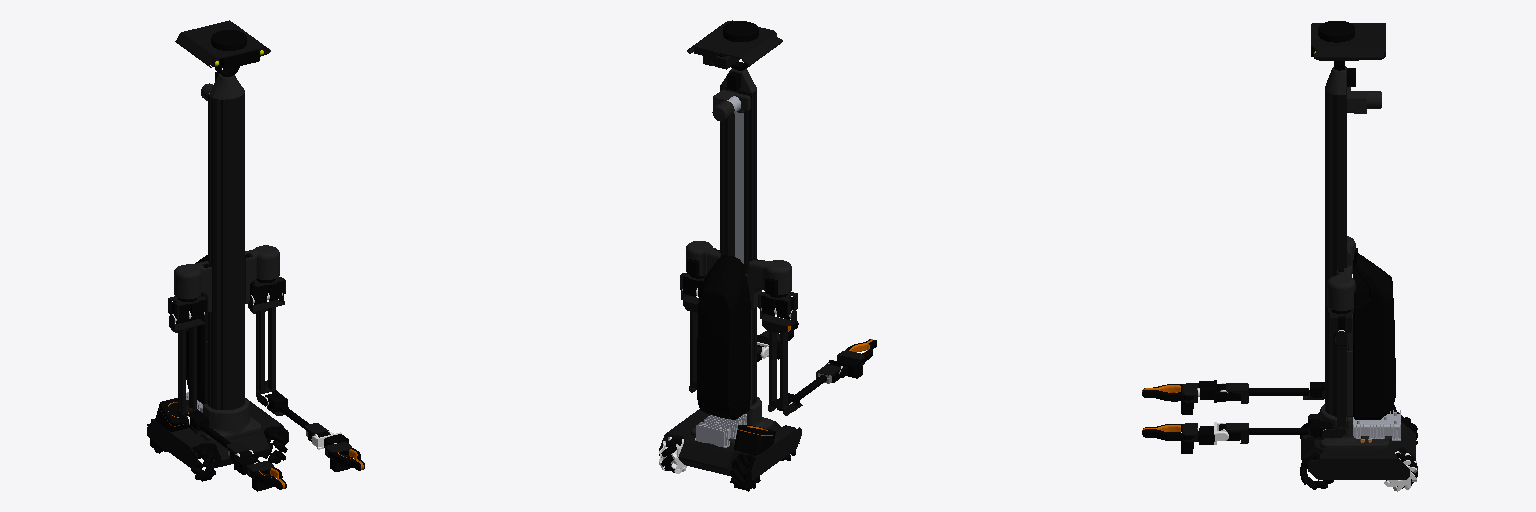
--- What the picture shows (computed from the rendered views, not written in the file) ---
Views: 3 orthographic renders of the robot side by side, from view 1: azimuth 30°, elevation 25°; view 2: azimuth 150°, elevation 25°; view 3: azimuth 270°, elevation 25°.
Robot: alfiebot.021.urdf — 23 links, 22 joints (16 revolute, 5 continuous, 1 prismatic); root link base_link; default pose: all joints at 0.
Visible links, largest first — view 1: base_link, head_link, back_link, left_arm_upper_link, right_arm_upper_link, left_arm_lower_link, right_arm_lower_link, right_shoulder_link, left_shoulder_link, mecanum_fr_link, mecanum_fl_link; view 2: base_link, head_link, back_link, right_arm_upper_link, right_shoulder_link, left_arm_upper_link, right_arm_lower_link, mecanum_rr_link, mecanum_rl_link; view 3: base_link, head_link, back_link, left_arm_lower_link, right_arm_lower_link, left_arm_upper_link, mecanum_rl_link.
Boxes of the visible links, x1,y1,x2,y2 form: base_link: [147, 72, 288, 468]; head_link: [175, 20, 270, 69]; back_link: [174, 245, 279, 312]; left_arm_upper_link: [248, 293, 284, 406]; right_arm_upper_link: [169, 313, 206, 425]; left_arm_lower_link: [265, 392, 331, 441]; right_arm_lower_link: [187, 411, 253, 461]; right_shoulder_link: [168, 296, 206, 323]; left_shoulder_link: [250, 277, 285, 304]; mecanum_fr_link: [191, 446, 215, 481]; mecanum_fl_link: [263, 428, 287, 463]; base_link: [659, 68, 801, 479]; head_link: [687, 20, 782, 67]; back_link: [686, 241, 791, 309]; right_arm_upper_link: [760, 308, 796, 415]; right_shoulder_link: [758, 292, 797, 319]; left_arm_upper_link: [681, 289, 698, 392]; right_arm_lower_link: [777, 363, 842, 411]; mecanum_rr_link: [730, 453, 760, 491]; mecanum_rl_link: [659, 437, 686, 473]; base_link: [1301, 66, 1415, 479]; head_link: [1311, 21, 1385, 60]; back_link: [1327, 236, 1357, 310]; left_arm_lower_link: [1219, 421, 1331, 443]; right_arm_lower_link: [1219, 382, 1324, 403]; left_arm_upper_link: [1322, 331, 1348, 437]; mecanum_rl_link: [1384, 451, 1417, 491].
Size in the robot's own frame: 0.275 by 0.5779 by 1.02 metres.
Meshes: 52 distinct files referenced, 146 mesh visuals loaded (49 OBJ); not drawn: 4 (reference not matched to a file when rendering).

The robot description file, URDF, robot "alfiebot.021.urdf":
<?xml version="1.0" encoding="UTF-8"?>
<robot name="alfiebot.021.urdf">

  <material name="aluminum_black">
    <color rgba="0.1 0.1 0.1 1"/>
  </material>

  <material name="body_black">
    <color rgba="0.15 0.15 0.15 1"/>
  </material>

  <material name="plastic_black">
    <color rgba="0.05 0.05 0.05 1"/>
  </material>

  <material name="glass_black">
    <color rgba="0.05 0.05 0.05 1"/>
  </material>

  <material name="brass">
    <color rgba="0.8 0.5 0.2 1"/>
  </material>

  <material name="plastic_white">
    <color rgba="0.9 0.9 0.9 1"/>
  </material>

  <material name="aluminum">
    <color rgba="0.66 0.67 0.71 1"/>
  </material>



  <material name="rubber_black">
    <color rgba="0.05 0.05 0.05 1"/>
  </material>

  <material name="glass_yellow">
    <color rgba="0.8 0.8 0.0 1"/>
  </material>

  <material name="rubber_orange">
    <color rgba="0.8 0.4 0.0 1"/>
  </material>

  <material name="plastic_orange">
    <color rgba="0.8 0.4 0.0 1"/>
  </material>

  <material name="plastic_grey">
    <color rgba="0.5 0.5 0.5 1"/>
  </material>

  <joint name="back_joint" type="prismatic">
    <origin xyz="-0.001102 0.0016674 0.3291568" rpy="0. 0. 3.1415927"/>
    <parent link="base_link"/>
    <child link="back_link"/>
    <axis xyz="0. 0. 1."/>
    <limit lower="0." upper="0.39" effort="10000000." velocity="0."/>
  </joint>
  <joint name="head_pitch_joint" type="revolute">
    <origin xyz="-0.01875 -0. 0.053 " rpy="1.5707964 0.0 1.5707964"/>
    <parent link="neck2_link"/>
    <child link="neck3_link"/>
    <axis xyz="0. 0. -1."/>
    <limit lower="-1.0471976" upper="1.0471976" effort="10000000." velocity="0."/>
  </joint>
  <joint name="head_roll_joint" type="continuous">
    <origin xyz="0.0506271 0.0001069 0.0194332" rpy="-1.5707964 0. 1.5707964"/>
    <parent link="neck3_link"/>
    <child link="head_link"/>
    <axis xyz="0. 0. 1."/>
  </joint>
  <joint name="head_yaw_joint" type="revolute">
    <origin xyz="-0.0011403 0.0054173 0.8706568" rpy="0.0 0.0 0.0"/>
    <parent link="base_link"/>
    <child link="neck2_link"/>
    <axis xyz="0. 0. 1."/>
    <limit lower="-3.1415927" upper="3.1415927" effort="10000000." velocity="0."/>
  </joint>
  <joint name="left_elbow_pitch_joint" type="revolute">
    <origin xyz="0.2368151 -0.0300024 0.0193 " rpy="0. 0. 1.5707964"/>
    <parent link="left_arm_upper_link"/>
    <child link="left_arm_lower_link"/>
    <axis xyz="0. 0. 1."/>
    <limit lower="-1.5707963" upper="1.5707963" effort="10000000." velocity="0."/>
  </joint>
  <joint name="left_gripper_active_joint" type="revolute">
    <origin xyz="-0.0052 -0.015625 0.021 " rpy="-1.5707964 0. -1.5707964"/>
    <parent link="left_hand_link"/>
    <child link="left_gripper_active_link"/>
    <axis xyz="0. 0. 1."/>
    <limit lower="-0.0872665" upper="0.7853982" effort="10000000." velocity="0."/>
  </joint>
  <joint name="left_gripper_passive_joint" type="revolute">
    <origin xyz="-0.0052 0.015625 0.021 " rpy="-1.5707964 0. -1.5707964"/>
    <parent link="left_hand_link"/>
    <child link="left_gripper_passive_link"/>
    <axis xyz="0. 0. 1."/>
    <limit lower="-0.7853982" upper="0.0872665" effort="10000000." velocity="0."/>
  </joint>
  <joint name="left_shoulder_pitch_joint" type="revolute">
    <origin xyz="0.0379175 0.0000265 -0.0508856" rpy="0. 1.5707961 -3.1415927"/>
    <parent link="left_shoulder_link"/>
    <child link="left_arm_upper_link"/>
    <axis xyz="0. 0. 1."/>
    <limit lower="-1.4835299" upper="1.4835299" effort="10000000." velocity="0."/>
  </joint>
  <joint name="left_shoulder_yaw_joint" type="revolute">
    <origin xyz="-0.098 -0.007 0.04 " rpy="0. 0. 0."/>
    <parent link="back_link"/>
    <child link="left_shoulder_link"/>
    <axis xyz="0. 0. 1."/>
    <limit lower="-0.7853982" upper="0.7853982" effort="10000000." velocity="0."/>
  </joint>
  <joint name="left_wrist_pitch_joint" type="revolute">
    <origin xyz="-0.2158563 -0.005356 0.0004384" rpy="0. -0.0000002 -1.5707964"/>
    <parent link="left_arm_lower_link"/>
    <child link="left_wrist_link"/>
    <axis xyz="0. 0. 1."/>
    <limit lower="-0.7853982" upper="1.5707963" effort="10000000." velocity="0."/>
  </joint>
  <joint name="left_wrist_roll_joint" type="revolute">
    <origin xyz="-0. -0.05525 0.019 " rpy="-1.5707964 -0.0000002 -3.1415927"/>
    <parent link="left_wrist_link"/>
    <child link="left_hand_link"/>
    <axis xyz="0. 0. 1."/>
    <limit lower="-1.5707963" upper="1.5707963" effort="10000000." velocity="0."/>
  </joint>
  <joint name="mecanum_fl_joint" type="continuous">
    <origin xyz="0.0587987 -0.0400623 -0.0190932" rpy="1.5707964 0. 1.5707964"/>
    <parent link="base_link"/>
    <child link="mecanum_fl_link"/>
    <axis xyz="0. 0. 1."/>
  </joint>
  <joint name="mecanum_fr_joint" type="continuous">
    <origin xyz="-0.0614028 -0.0400623 -0.0190932" rpy="1.5707964 0. 1.5707964"/>
    <parent link="base_link"/>
    <child link="mecanum_fr_link"/>
    <axis xyz="0. 0. 1."/>
  </joint>
  <joint name="mecanum_rl_joint" type="continuous">
    <origin xyz="0.0587987 0.1309377 -0.0190932" rpy="1.5707964 0. 1.5707964"/>
    <parent link="base_link"/>
    <child link="mecanum_rl_link"/>
    <axis xyz="0. 0. 1."/>
  </joint>
  <joint name="mecanum_rr_joint" type="continuous">
    <origin xyz="-0.0614028 0.1309377 -0.0190932" rpy="1.5707964 0. 1.5707964"/>
    <parent link="base_link"/>
    <child link="mecanum_rr_link"/>
    <axis xyz="0. 0. 1."/>
  </joint>
  <joint name="right_elbow_pitch_joint" type="revolute">
    <origin xyz="0.2368151 -0.0300024 0.0193 " rpy="0.0000001 -0.0000001 1.5707963"/>
    <parent link="right_arm_upper_link"/>
    <child link="right_arm_lower_link"/>
    <axis xyz="0. 0. 1."/>
    <limit lower="-1.5707963" upper="1.5707963" effort="10000000." velocity="0."/>
  </joint>
  <joint name="right_gripper_active_joint" type="revolute">
    <origin xyz="0.0052 0.015625 0.021 " rpy="-1.5707964 0. 1.5707964"/>
    <parent link="right_hand_link"/>
    <child link="right_gripper_active_link"/>
    <axis xyz="0. 0. 1."/>
    <limit lower="-0.0872665" upper="0.7853982" effort="10000000." velocity="0."/>
  </joint>
  <joint name="right_gripper_passive_joint" type="revolute">
    <origin xyz="0.0052 -0.015625 0.021 " rpy="-1.5707964 0. 1.5707964"/>
    <parent link="right_hand_link"/>
    <child link="right_gripper_passive_link"/>
    <axis xyz="0. 0. 1."/>
    <limit lower="-0.7853982" upper="0.0872665" effort="10000000." velocity="0."/>
  </joint>
  <joint name="right_shoulder_pitch_joint" type="revolute">
    <origin xyz="0.0379175 0.0000265 -0.0508856" rpy="0. 1.5707961 3.1415927"/>
    <parent link="right_shoulder_link"/>
    <child link="right_arm_upper_link"/>
    <axis xyz="0. 0. 1."/>
    <limit lower="-1.4835299" upper="1.4835299" effort="10000000." velocity="0."/>
  </joint>
  <joint name="right_shoulder_yaw_joint" type="revolute">
    <origin xyz="0.098 -0.007 0.04 " rpy="0. 0. 0."/>
    <parent link="back_link"/>
    <child link="right_shoulder_link"/>
    <axis xyz="0. 0. 1."/>
    <limit lower="-0.7853982" upper="0.7853982" effort="10000000." velocity="0."/>
  </joint>
  <joint name="right_wrist_pitch_joint" type="revolute">
    <origin xyz="-0.2158563 -0.005356 0.0004384" rpy="-0.0000001 -0.0000001 -1.5707963"/>
    <parent link="right_arm_lower_link"/>
    <child link="right_wrist_link"/>
    <axis xyz="0. 0. 1."/>
    <limit lower="-0.7853982" upper="1.5707963" effort="10000000." velocity="0."/>
  </joint>
  <joint name="right_wrist_roll_joint" type="revolute">
    <origin xyz="-0. -0.05525 0.0185 " rpy="1.5707964 0.0000002 -0. "/>
    <parent link="right_wrist_link"/>
    <child link="right_hand_link"/>
    <axis xyz="0. 0. 1."/>
    <limit lower="-1.5707963" upper="1.5707963" effort="10000000." velocity="0."/>
  </joint>


  <link name="back_link">
    <inertial>
      <origin xyz="-0.051 -0.0073 0.053 " rpy="0. 0. 0."/>
      <mass value="0.0114743"/>
      <inertia ixx="0.0000005" ixy="-0." ixz="0." iyy="0.0000005" iyz="-0." izz="0.0000008"/>
    </inertial>
    <visual>
      <origin xyz="-0.098 -0.007 0.05725" rpy="0. 0. 1.5707964"/>
      <geometry>
        <mesh filename="package://alfie_urdf/meshes/st3215.obj" scale="1. 1. 1."/>
      </geometry>
      <material name="plastic_black"/>
    </visual>
    <visual>
      <origin xyz="-0. -0.0064 0.04 " rpy="3.1415927 0. 0. "/>
      <geometry>
        <mesh filename="package://alfie_urdf/meshes/v_bearing.obj" scale="1. 1. 1."/>
      </geometry>
      <material name="plastic_black"/>
    </visual>
    <visual>
      <origin xyz="-0. -0.007 0.1 " rpy="0. 0. 0."/>
      <geometry>
        <mesh filename="package://alfie_urdf/meshes/pillow_block_adapter.obj" scale="1. 1. 1."/>
      </geometry>
      <material name="body_black"/>
    </visual>
    <visual>
      <origin xyz="-0. -0.007 0.1 " rpy="0. 0. 0."/>
      <geometry>
        <mesh filename="package://alfie_urdf/meshes/left_shoulder.obj" scale="1. 1. 1."/>
      </geometry>
      <material name="body_black"/>
    </visual>
    <visual>
      <origin xyz="-0. -0.007 0.1 " rpy="0. 0. 0."/>
      <geometry>
        <mesh filename="package://alfie_urdf/meshes/back_frame.obj" scale="1. 1. 1."/>
      </geometry>
      <material name="body_black"/>
    </visual>
    <visual>
      <origin xyz="0.0009153 -0.0064 0.0736835" rpy="3.1415927 0. 0. "/>
      <geometry>
        <mesh filename="package://alfie_urdf/meshes/v_bearing.obj" scale="1. 1. 1."/>
      </geometry>
      <material name="plastic_black"/>
    </visual>
    <visual>
      <origin xyz="-0.1029153 -0.0064 0.0736835" rpy="3.1415927 0. 0. "/>
      <geometry>
        <mesh filename="package://alfie_urdf/meshes/v_bearing.obj" scale="1. 1. 1."/>
      </geometry>
      <material name="plastic_black"/>
    </visual>
    <visual>
      <origin xyz="0.098 -0.007 0.05725" rpy="0. 0. 1.5707964"/>
      <geometry>
        <mesh filename="package://alfie_urdf/meshes/st3215.obj" scale="1. 1. 1."/>
      </geometry>
      <material name="plastic_black"/>
    </visual>
    <visual>
      <origin xyz="-0. -0.007 0.1 " rpy="0. 0. 0."/>
      <geometry>
        <mesh filename="package://alfie_urdf/meshes/right_shoulder.obj" scale="1. 1. 1."/>
      </geometry>
      <material name="body_black"/>
    </visual>
    <visual>
      <origin xyz="-0.102 -0.0064 0.04 " rpy="3.1415927 0. 0. "/>
      <geometry>
        <mesh filename="package://alfie_urdf/meshes/v_bearing.obj" scale="1. 1. 1."/>
      </geometry>
      <material name="plastic_black"/>
    </visual>
  </link>

  <link name="base_link">
    <inertial>
      <origin xyz="-0.0846182 0.0894767 0.0393554" rpy="0. 0. 0."/>
      <mass value="0.17555"/>
      <inertia ixx="0.000074" ixy="0." ixz="0." iyy="0.0001197" iyz="0.0000151" izz="0.0000903"/>
    </inertial>
    <visual>
      <origin xyz="-0.001302 0.0336644 0.2746568" rpy="0. 0. 3.1415927"/>
      <geometry>
        <mesh filename="package://alfie_urdf/meshes/optical_endstop_block.obj" scale="1. 1. 1."/>
      </geometry>
      <material name="body_black"/>
    </visual>
    <visual>
      <origin xyz="-0.001302 0.0331644 0.0276568" rpy="0. 0. 1.5707964"/>
      <geometry>
        <mesh filename="package://alfie_urdf/meshes/buck_converter.obj" scale="1. 1. 1."/>
      </geometry>
      <material name="aluminum"/>
    </visual>
    <visual>
      <origin xyz="-0.0011033 0.0196107 0.8266568" rpy="0. 0. -0.0025961"/>
      <geometry>
        <mesh filename="package://alfie_urdf/meshes/neck_base.obj" scale="1. 1. 1."/>
      </geometry>
      <material name="body_black"/>
    </visual>
    <visual>
      <origin xyz="-0.001302 0.0196644 0.0449068" rpy="0. 0. 3.1415927"/>
      <geometry>
        <mesh filename="package://alfie_urdf/meshes/battery_adapter_plate.obj" scale="1. 1. 1."/>
      </geometry>
      <material name="body_black"/>
    </visual>
    <visual>
      <origin xyz="-0.001135 0.0916674 0.7974541" rpy="3.1415927 0. 0. "/>
      <geometry>
        <mesh filename="package://alfie_urdf/meshes/back_servo_cover.obj" scale="1. 1. 1."/>
      </geometry>
      <material name="body_black"/>
    </visual>
    <visual>
      <origin xyz="0.0542753 0.0684031 0.0314471" rpy="0. 0. 0."/>
      <geometry>
        <mesh filename="package://alfie_urdf/meshes/wifi_antenna.obj" scale="1. 1. 1."/>
      </geometry>
      <material name="plastic_black"/>
    </visual>
    <visual>
      <origin xyz="-0.001102 0.0196644 0.0271568" rpy="0. 0. 3.1415927"/>
      <geometry>
        <mesh filename="package://alfie_urdf/meshes/flsun_arm.obj" scale="1. 1. 1."/>
      </geometry>
      <material name="aluminum_black"/>
    </visual>
    <visual>
      <origin xyz="-0.001135 0.0296674 0.7974541" rpy="1.5707964 0. 0. "/>
      <geometry>
        <mesh filename="package://alfie_urdf/meshes/jgb37_520.obj" scale="1. 1. 1."/>
      </geometry>
      <material name="aluminum"/>
    </visual>
    <visual>
      <origin xyz="0.0542753 0.0684031 0.0314471" rpy="0. 0. 0."/>
      <geometry>
        <mesh filename="package://alfie_urdf/meshes/wifi_nut.obj" scale="1. 1. 1."/>
      </geometry>
      <material name="brass"/>
    </visual>
    <visual>
      <origin xyz="-0.001302 0.0463674 0.0241568" rpy="0. 0. 0."/>
      <geometry>
        <mesh filename="package://alfie_urdf/meshes/base_plate.obj" scale="1. 1. 1."/>
      </geometry>
      <material name="body_black"/>
    </visual>
    <visual>
      <origin xyz="-0.0011403 0.0054173 0.8514068" rpy="-3.1415927 0. -1.5733924"/>
      <geometry>
        <mesh filename="package://alfie_urdf/meshes/st3215.obj" scale="1. 1. 1."/>
      </geometry>
      <material name="plastic_black"/>
    </visual>
    <visual>
      <origin xyz="-0.0846183 0.0741196 0.0619034" rpy="-1.1724066 0. 0. "/>
      <geometry>
        <mesh filename="package://alfie_urdf/meshes/speaker_accent.obj" scale="1. 1. 1."/>
      </geometry>
      <material name="plastic_orange"/>
    </visual>
    <visual>
      <origin xyz="0.0542854 0.0531264 0.0314244" rpy="0. 0. 0."/>
      <geometry>
        <mesh filename="package://alfie_urdf/meshes/wifi_antenna.obj" scale="1. 1. 1."/>
      </geometry>
      <material name="plastic_black"/>
    </visual>
    <visual>
      <origin xyz="-0.001302 0.0454377 0.0241568" rpy="0. 0. 0."/>
      <geometry>
        <mesh filename="package://alfie_urdf/meshes/ugv_base.obj" scale="1. 1. 1."/>
      </geometry>
      <material name="aluminum_black"/>
    </visual>
    <visual>
      <origin xyz="-0.0846183 0.0741196 0.0619034" rpy="-1.1724066 0. 0. "/>
      <geometry>
        <mesh filename="package://alfie_urdf/meshes/speaker.obj" scale="1. 1. 1."/>
      </geometry>
      <material name="plastic_black"/>
    </visual>
    <visual>
      <origin xyz="-0.001102 0.0196644 0.0271568" rpy="0. 0. 3.1415927"/>
      <geometry>
        <mesh filename="package://alfie_urdf/meshes/flsun_rail.obj" scale="1. 1. 1."/>
      </geometry>
      <material name="aluminum"/>
    </visual>
    <visual>
      <origin xyz="-0.001302 0.0832644 0.0241568" rpy="0. 0. 1.5707964"/>
      <geometry>
        <mesh filename="package://alfie_urdf/meshes/buckdown_spacer.obj" scale="1. 1. 1."/>
      </geometry>
      <material name="body_black"/>
    </visual>
    <visual>
      <origin xyz="0.0542854 0.0531264 0.0314244" rpy="0. 0. 0."/>
      <geometry>
        <mesh filename="package://alfie_urdf/meshes/wifi_nut.obj" scale="1. 1. 1."/>
      </geometry>
      <material name="brass"/>
    </visual>
    <visual>
      <origin xyz="-0.001135 0.0196674 0.7974541" rpy="3.1415927 0. 0. "/>
      <geometry>
        <mesh filename="package://alfie_urdf/meshes/back_servo_frame.obj" scale="1. 1. 1."/>
      </geometry>
      <material name="body_black"/>
    </visual>
    <visual>
      <origin xyz="-0.0010395 0.0334644 0.074102 " rpy="0. -1.5707964 0. "/>
      <geometry>
        <mesh filename="package://alfie_urdf/meshes/6010_battery.obj" scale="1. 1. 1."/>
      </geometry>
      <material name="plastic_black"/>
    </visual>
    <visual>
      <origin xyz="-0.0846183 0.0741196 0.0619034" rpy="-1.1724066 0. 0. "/>
      <geometry>
        <mesh filename="package://alfie_urdf/meshes/speaker_cover.obj" scale="1. 1. 1."/>
      </geometry>
      <material name="plastic_black"/>
    </visual>
    <visual>
      <origin xyz="-0.0846183 0.0741196 0.0619034" rpy="-1.1724066 0. 0. "/>
      <geometry>
        <mesh filename="package://alfie_urdf/meshes/speaker_base.obj" scale="1. 1. 1."/>
      </geometry>
      <material name="plastic_black"/>
    </visual>
  </link>

  <link name="head_link">
    <inertial>
      <origin xyz="-0. -0. -0.0354969" rpy="0. 0. 0."/>
      <mass value="0.001042"/>
      <inertia ixx="0." ixy="-0." ixz="-0." iyy="0." iyz="-0." izz="0."/>
    </inertial>
    <visual>
      <origin xyz="-0. -0. -0.01725" rpy="3.1415927 -0. 1.5707964"/>
      <geometry>
        <mesh filename="package://alfie_urdf/meshes/st3215.obj" scale="1. 1. 1."/>
      </geometry>
      <material name="plastic_black"/>
    </visual>
    <visual>
      <origin xyz="0.0071363 0.0002454 0.0970189" rpy="-1.5707964 0. -1.5707964"/>
      <geometry>
        <mesh filename="package://alfie_urdf/meshes/oakd_lite.obj" scale="1. 1. 1."/>
      </geometry>
      <material name="plastic_black"/>
    </visual>
    <visual>
      <origin xyz="-0. -0. -0.01725" rpy="-3.1415927 0. -1.5707964"/>
      <geometry>
        <mesh filename="package://alfie_urdf/meshes/active_horn.obj" scale="1. 1. 1."/>
      </geometry>
      <material name="plastic_white"/>
    </visual>
    <visual>
      <origin xyz="-0.0967828 0.0002681 0.0396251" rpy="-1.5707964 0. -1.5707964"/>
      <geometry>
        <mesh filename="package://alfie_urdf/meshes/respeaker.obj" scale="1. 1. 1."/>
      </geometry>
      <material name="plastic_black"/>
    </visual>
    <visual>
      <origin xyz="-0.0944828 0.1128894 0.036915 " rpy="-1.5707964 0. -1.5707964"/>
      <geometry>
        <mesh filename="package://alfie_urdf/meshes/eye_glass.obj" scale="1. 1. 1."/>
      </geometry>
      <material name="glass_yellow"/>
    </visual>
    <visual>
      <origin xyz="-0.0944828 0.0008894 0.036915 " rpy="-1.5707964 0. -1.5707964"/>
      <geometry>
        <mesh filename="package://alfie_urdf/meshes/eye_glass.obj" scale="1. 1. 1."/>
      </geometry>
      <material name="glass_yellow"/>
    </visual>
    <visual>
      <origin xyz="0.00775 0.0002454 0.0365189" rpy="-1.5707964 0. -1.5707964"/>
      <geometry>
        <mesh filename="package://alfie_urdf/meshes/head_frame.obj" scale="1. 1. 1."/>
      </geometry>
      <material name="aluminum_black"/>
    </visual>
    <visual>
      <origin xyz="-0.0944828 0.1128894 0.036915 " rpy="-1.5707964 0. -1.5707964"/>
      <geometry>
        <mesh filename="package://alfie_urdf/meshes/eye_frame.obj" scale="1. 1. 1."/>
      </geometry>
      <material name="aluminum_black"/>
    </visual>
    <visual>
      <origin xyz="-0. -0. -0.0357" rpy="-1.5707964 0. -1.5707964"/>
      <geometry>
        <mesh filename="package://alfie_urdf/meshes/neck4_frame.obj" scale="1. 1. 1."/>
      </geometry>
      <material name="aluminum_black"/>
    </visual>
    <visual>
      <origin xyz="-0.0944828 0.0008894 0.036915 " rpy="-1.5707964 0. -1.5707964"/>
      <geometry>
        <mesh filename="package://alfie_urdf/meshes/eye_frame.obj" scale="1. 1. 1."/>
      </geometry>
      <material name="aluminum_black"/>
    </visual>
    <visual>
      <origin xyz="-0. -0. -0.01725" rpy="-3.1415927 0. -1.5707964"/>
      <geometry>
        <mesh filename="package://alfie_urdf/meshes/passive_horn.obj" scale="1. 1. 1."/>
      </geometry>
      <material name="plastic_white"/>
    </visual>
  </link>

  <link name="left_arm_lower_link">
    <inertial>
      <origin xyz="-0.0133899 0. 0.0192034" rpy="0. 0. 0."/>
      <mass value="0.0951702"/>
      <inertia ixx="0.0000129" ixy="0." ixz="-0." iyy="0.0000204" iyz="-0." izz="0.0000236"/>
    </inertial>
    <visual>
      <origin xyz="0.0672499 0.5326688 -0.0786977" rpy="1.5707964 1.5707964 0. "/>
      <geometry>
        <mesh filename="package://alfie_urdf/meshes/tube.obj" scale="1. 1. 1."/>
      </geometry>
      <material name="plastic_black"/>
    </visual>
    <visual>
      <origin xyz="-0.2158563 -0.0012424 0.017225 " rpy="0. 0. 1.5707964"/>
      <geometry>
        <mesh filename="package://alfie_urdf/meshes/passive_horn.obj" scale="1. 1. 1."/>
      </geometry>
      <material name="plastic_white"/>
    </visual>
    <visual>
      <origin xyz="0.0672499 -0.539283 0.1163364" rpy="-1.5707964 -1.5707964 0. "/>
      <geometry>
        <mesh filename="package://alfie_urdf/meshes/wrist_frame.obj" scale="1. 1. 1."/>
      </geometry>
      <material name="aluminum_black"/>
    </visual>
    <visual>
      <origin xyz="0.0672499 -0.5392672 0.1163611" rpy="-1.5707964 -1.5707964 0. "/>
      <geometry>
        <mesh filename="package://alfie_urdf/meshes/bracket_lower.obj" scale="1. 1. 1."/>
      </geometry>
      <material name="plastic_grey"/>
    </visual>
    <visual>
      <origin xyz="0.0672499 -0.5392672 0.1163611" rpy="-1.5707964 -1.5707964 0. "/>
      <geometry>
        <mesh filename="package://alfie_urdf/meshes/elbow_frame.obj" scale="1. 1. 1."/>
      </geometry>
      <material name="aluminum_black"/>
    </visual>
    <visual>
      <origin xyz="0. 0. 0.01725" rpy="0. 0. -1.5707964"/>
      <geometry>
        <mesh filename="package://alfie_urdf/meshes/passive_horn.obj" scale="1. 1. 1."/>
      </geometry>
      <material name="plastic_white"/>
    </visual>
    <visual>
      <origin xyz="0.0672499 -0.5392672 0.1163611" rpy="-1.5707964 -1.5707964 0. "/>
      <geometry>
        <mesh filename="package://alfie_urdf/meshes/bracket_upper.obj" scale="1. 1. 1."/>
      </geometry>
      <material name="plastic_grey"/>
    </visual>
    <visual>
      <origin xyz="0.0672499 -0.539283 0.1163364" rpy="-1.5707964 -1.5707964 0. "/>
      <geometry>
        <mesh filename="package://alfie_urdf/meshes/bracket_lower.obj" scale="1. 1. 1."/>
      </geometry>
      <material name="plastic_grey"/>
    </visual>
    <visual>
      <origin xyz="-0.2158563 -0.005356 0.0204384" rpy="3.1415927 0. 3.1415927"/>
      <geometry>
        <mesh filename="package://alfie_urdf/meshes/st3215.obj" scale="1. 1. 1."/>
      </geometry>
      <material name="plastic_black"/>
    </visual>
    <visual>
      <origin xyz="-0.2158563 -0.0012424 0.017225 " rpy="0. 0. 1.5707964"/>
      <geometry>
        <mesh filename="package://alfie_urdf/meshes/active_horn.obj" scale="1. 1. 1."/>
      </geometry>
      <material name="plastic_white"/>
    </visual>
    <visual>
      <origin xyz="0. 0. 0.01725" rpy="0. 0. -1.5707964"/>
      <geometry>
        <mesh filename="package://alfie_urdf/meshes/active_horn.obj" scale="1. 1. 1."/>
      </geometry>
      <material name="plastic_white"/>
    </visual>
    <visual>
      <origin xyz="0.0672499 -0.539283 0.1163364" rpy="-1.5707964 -1.5707964 0. "/>
      <geometry>
        <mesh filename="package://alfie_urdf/meshes/bracket_upper.obj" scale="1. 1. 1."/>
      </geometry>
      <material name="plastic_grey"/>
    </visual>
    <visual>
      <origin xyz="0. 0. 0.01725" rpy="0. 0. 0."/>
      <geometry>
        <mesh filename="package://alfie_urdf/meshes/st3215.obj" scale="1. 1. 1."/>
      </geometry>
      <material name="plastic_black"/>
    </visual>
  </link>

  <link name="left_arm_upper_link">
    <inertial>
      <origin xyz="0.1212153 -0.0000903 0.03801 " rpy="0. 0. 0."/>
      <mass value="0.1877193"/>
      <inertia ixx="0.0009182" ixy="-0." ixz="-0." iyy="0.0008838" iyz="-0." izz="0.0000578"/>
    </inertial>
    <visual>
      <origin xyz="0.7760407 0.0370184 0.1359393" rpy="-0. -1.5707961 0. "/>
      <geometry>
        <mesh filename="package://alfie_urdf/meshes/upper_frame.obj" scale="1. 1. 1."/>
      </geometry>
      <material name="aluminum_black"/>
    </visual>
  </link>

  <link name="left_gripper_active_link">
    <inertial>
      <origin xyz="-0.0001356 -0.0333035 0.005 " rpy="0. 0. 0."/>
      <mass value="0.0211625"/>
      <inertia ixx="0.0000013" ixy="0." ixz="-0." iyy="0.0000198" iyz="0." izz="0.0000203"/>
    </inertial>
    <visual>
      <origin xyz="-0.03125 0. 0.015 " rpy="3.1415927 0. 3.1415927"/>
      <geometry>
        <mesh filename="package://alfie_urdf/meshes/gripper_liner.obj" scale="1. 1. 1."/>
      </geometry>
      <material name="rubber_orange"/>
    </visual>
    <visual>
      <origin xyz="-0.03125 0. 0.015 " rpy="3.1415927 0. 3.1415927"/>
      <geometry>
        <mesh filename="package://alfie_urdf/meshes/gripper.obj" scale="1. 1. 1."/>
      </geometry>
      <material name="plastic_black"/>
    </visual>
    <collision>
      <origin xyz="-0.0313332 -0.0001633 -0.0049882" rpy="0. 0. 0."/>
      <geometry>
        <mesh filename="package://alfie_urdf/meshes/gripper_active_collision.obj" scale="1. 1. 1."/>
      </geometry>
      <material name="plastic_black"/>
    </collision>
  </link>

  <link name="left_gripper_passive_link">
    <inertial>
      <origin xyz="0.0001356 -0.0333035 0.005 " rpy="0. 0. 0."/>
      <mass value="0.0211625"/>
      <inertia ixx="0.0000013" ixy="0." ixz="0." iyy="0.0000198" iyz="0." izz="0.0000203"/>
    </inertial>
    <visual>
      <origin xyz="0.03125 -0. -0.005 " rpy="0. 0. 0."/>
      <geometry>
        <mesh filename="package://alfie_urdf/meshes/gripper_liner.obj" scale="1. 1. 1."/>
      </geometry>
      <material name="rubber_orange"/>
    </visual>
    <visual>
      <origin xyz="0.03125 -0. -0.005 " rpy="0. 0. 0."/>
      <geometry>
        <mesh filename="package://alfie_urdf/meshes/gripper.obj" scale="1. 1. 1."/>
      </geometry>
      <material name="plastic_black"/>
    </visual>
    <collision>
      <origin xyz="0.031 -0.0003 -0.0044" rpy="0. 0. 0."/>
      <geometry>
        <mesh filename="package://alfie_urdf/meshes/gripper_passive_collision.obj" scale="1. 1. 1."/>
      </geometry>
      <material name="plastic_black"/>
    </collision>
  </link>

  <link name="left_hand_link">
    <inertial>
      <origin xyz="0.0009873 0.0011172 0.0124377" rpy="0. 0. 0."/>
      <mass value="0.0225604"/>
      <inertia ixx="0.0000078" ixy="0." ixz="0." iyy="0.0000033" iyz="-0." izz="0.0000065"/>
    </inertial>
    <visual>
      <origin xyz="-0.02245 -0.015625 0.021 " rpy="1.5707964 -0.0148905 -1.5707964"/>
      <geometry>
        <mesh filename="package://alfie_urdf/meshes/st3215.obj" scale="1. 1. 1."/>
      </geometry>
      <material name="plastic_black"/>
    </visual>
    <visual>
      <origin xyz="-0.01 -0.015625 0.021 " rpy="-1.5707964 0. -1.5707964"/>
      <geometry>
        <mesh filename="package://alfie_urdf/meshes/hand_frame.obj" scale="1. 1. 1."/>
      </geometry>
      <material name="aluminum_black"/>
    </visual>
  </link>

  <link name="left_shoulder_link">
    <inertial>
      <origin xyz="-0.035563 -0.0000007 -0.0509092" rpy="0. 0. 0."/>
      <mass value="0.0014148"/>
      <inertia ixx="0.0000001" ixy="0." ixz="-0." iyy="0." iyz="-0." izz="0."/>
    </inertial>
    <visual>
      <origin xyz="-0.0001294 -0.0002184 -0.0003 " rpy="0. 0. 3.1415927"/>
      <geometry>
        <mesh filename="package://alfie_urdf/meshes/shoulder_frame.obj" scale="1. 1. 1."/>
      </geometry>
      <material name="aluminum_black"/>
    </visual>
    <visual>
      <origin xyz="0.0206675 0.0000265 -0.0508856" rpy="3.1415927 1.5707964 0. "/>
      <geometry>
        <mesh filename="package://alfie_urdf/meshes/active_horn.obj" scale="1. 1. 1."/>
      </geometry>
      <material name="plastic_white"/>
    </visual>
    <visual>
      <origin xyz="-0.0206912 -0.0000007 -0.0509092" rpy="0. 1.5707964 0. "/>
      <geometry>
        <mesh filename="package://alfie_urdf/meshes/passive_horn.obj" scale="1. 1. 1."/>
      </geometry>
      <material name="plastic_white"/>
    </visual>
    <visual>
      <origin xyz="0.0206675 0.0000265 -0.0508856" rpy="3.1415927 1.5707964 0. "/>
      <geometry>
        <mesh filename="package://alfie_urdf/meshes/passive_horn.obj" scale="1. 1. 1."/>
      </geometry>
      <material name="plastic_white"/>
    </visual>
    <visual>
      <origin xyz="-0.0001294 -0.0002184 -0.0003 " rpy="0. 0. 3.1415927"/>
      <geometry>
        <mesh filename="package://alfie_urdf/meshes/shoulder_bearing.obj" scale="1. 1. 1."/>
      </geometry>
      <material name="plastic_black"/>
    </visual>
    <visual>
      <origin xyz="-0.0206912 -0.0000007 -0.0509092" rpy="0. 1.5707964 0. "/>
      <geometry>
        <mesh filename="package://alfie_urdf/meshes/st3215.obj" scale="1. 1. 1."/>
      </geometry>
      <material name="plastic_black"/>
    </visual>
    <visual>
      <origin xyz="0.0206675 0.0000265 -0.0508856" rpy="3.1415927 1.5707964 0. "/>
      <geometry>
        <mesh filename="package://alfie_urdf/meshes/st3215.obj" scale="1. 1. 1."/>
      </geometry>
      <material name="plastic_black"/>
    </visual>
    <visual>
      <origin xyz="-0.0206912 -0.0000007 -0.0509092" rpy="0. 1.5707964 0. "/>
      <geometry>
        <mesh filename="package://alfie_urdf/meshes/active_horn.obj" scale="1. 1. 1."/>
      </geometry>
      <material name="plastic_white"/>
    </visual>
  </link>

  <link name="left_wrist_link">
    <inertial>
      <origin xyz="0. -0.0528719 0.019 " rpy="0. 0. 0."/>
      <mass value="0.0014148"/>
      <inertia ixx="0." ixy="-0." ixz="-0." iyy="0.0000001" iyz="-0." izz="0."/>
    </inertial>
    <visual>
      <origin xyz="0.0000108 -0.020328 0.0188602" rpy="-1.5707965 0. -1.5707964"/>
      <geometry>
        <mesh filename="package://alfie_urdf/meshes/wrist.obj" scale="1. 1. 1."/>
      </geometry>
      <material name="plastic_white"/>
    </visual>
    <visual>
      <origin xyz="0. -0.038 0.019" rpy="1.5707964 1.5707961 -3.1415927"/>
      <geometry>
        <mesh filename="package://alfie_urdf/meshes/st3215.obj" scale="1. 1. 1."/>
      </geometry>
      <material name="plastic_black"/>
    </visual>
    <visual>
      <origin xyz="0. -0.038 0.019" rpy="1.5707964 -0.0000002 -3.1415927"/>
      <geometry>
        <mesh filename="package://alfie_urdf/meshes/active_horn.obj" scale="1. 1. 1."/>
      </geometry>
      <material name="plastic_white"/>
    </visual>
  </link>

  <link name="mecanum_fl_link">
    <inertial>
      <origin xyz="0.030705 -0.0004024 0.0282788" rpy="0. 0. 0."/>
      <mass value="0.0152798"/>
      <inertia ixx="0.0000015" ixy="0." ixz="-0." iyy="0.0000004" iyz="0." izz="0.0000015"/>
    </inertial>
    <visual>
      <origin xyz="0.0237753 0.0193919 0.0281856" rpy="3.1415927 0. -0.8726646"/>
      <geometry>
        <mesh filename="package://alfie_urdf/meshes/roller.obj" scale="1. 1. 1."/>
      </geometry>
      <material name="rubber_black"/>
    </visual>
    <visual>
      <origin xyz="-0.014912 0.02679 0.0282389" rpy="2.186276 0.5235988 1.4789153"/>
      <geometry>
        <mesh filename="package://alfie_urdf/meshes/roller.obj" scale="1. 1. 1."/>
      </geometry>
      <material name="rubber_black"/>
    </visual>
    <visual>
      <origin xyz="0.0001322 -0.0000806 -0.018527 " rpy="-1.5707964 -1.5707964 0. "/>
      <geometry>
        <mesh filename="package://alfie_urdf/meshes/mecanum_fl_link_hub.obj" scale="1. 1. 1."/>
      </geometry>
      <material name="plastic_black"/>
    </visual>
    <visual>
      <origin xyz="-0.0290498 -0.0101026 0.0282005" rpy="-2.186276 0.5235988 0.9645456"/>
      <geometry>
        <mesh filename="package://alfie_urdf/meshes/roller.obj" scale="1. 1. 1."/>
      </geometry>
      <material name="rubber_black"/>
    </visual>
    <visual>
      <origin xyz="-0.0157596 -0.0264119 0.0282005" rpy="-2.186276 0.5235988 1.6626773"/>
      <geometry>
        <mesh filename="package://alfie_urdf/meshes/roller.obj" scale="1. 1. 1."/>
      </geometry>
      <material name="rubber_black"/>
    </visual>
    <visual>
      <origin xyz="0.0232258 -0.0200468 0.0281856" rpy="-3.1415927 0. -2.268928 "/>
      <geometry>
        <mesh filename="package://alfie_urdf/meshes/roller.obj" scale="1. 1. 1."/>
      </geometry>
      <material name="rubber_black"/>
    </visual>
    <visual>
      <origin xyz="0.005797 0.0301076 0.0282389" rpy="2.186276 0.5235988 0.7807837"/>
      <geometry>
        <mesh filename="package://alfie_urdf/meshes/roller.obj" scale="1. 1. 1."/>
      </geometry>
      <material name="rubber_black"/>
    </visual>
    <visual>
      <origin xyz="-0.0286436 0.010937 0.0282389" rpy="2.186276 0.5235988 2.177047 "/>
      <geometry>
        <mesh filename="package://alfie_urdf/meshes/roller.obj" scale="1. 1. 1."/>
      </geometry>
      <material name="rubber_black"/>
    </visual>
    <visual>
      <origin xyz="0.0049047 -0.0303628 0.0282005" rpy="-2.186276 0.5235988 2.360809 "/>
      <geometry>
        <mesh filename="package://alfie_urdf/meshes/roller.obj" scale="1. 1. 1."/>
      </geometry>
      <material name="rubber_black"/>
    </visual>
    <visual>
      <origin xyz="0.0306778 -0.0004275 0.0281856" rpy="3.1415927 0. -1.5707964"/>
      <geometry>
        <mesh filename="package://alfie_urdf/meshes/roller.obj" scale="1. 1. 1."/>
      </geometry>
      <material name="rubber_black"/>
    </visual>
    <collision>
      <origin xyz="0.0237753 0.0193919 0.0281856" rpy="3.1415927 0. -0.8726646"/>
      <geometry>
        <mesh filename="package://alfie_urdf/meshes/roller.obj" scale="1. 1. 1."/>
      </geometry>
    </collision>
    <collision>
      <origin xyz="-0.014912 0.02679 0.0282389" rpy="2.186276 0.5235988 1.4789153"/>
      <geometry>
        <mesh filename="package://alfie_urdf/meshes/roller.obj" scale="1. 1. 1."/>
      </geometry>
    </collision>
    <collision>
      <origin xyz="-0.0290498 -0.0101026 0.0282005" rpy="-2.186276 0.5235988 0.9645456"/>
      <geometry>
        <mesh filename="package://alfie_urdf/meshes/roller.obj" scale="1. 1. 1."/>
      </geometry>
    </collision>
    <collision>
      <origin xyz="-0.0157596 -0.0264119 0.0282005" rpy="-2.186276 0.5235988 1.6626773"/>
      <geometry>
        <mesh filename="package://alfie_urdf/meshes/roller.obj" scale="1. 1. 1."/>
      </geometry>
    </collision>
    <collision>
      <origin xyz="0.0232258 -0.0200468 0.0281856" rpy="-3.1415927 0. -2.268928 "/>
      <geometry>
        <mesh filename="package://alfie_urdf/meshes/roller.obj" scale="1. 1. 1."/>
      </geometry>
    </collision>
    <collision>
      <origin xyz="0.005797 0.0301076 0.0282389" rpy="2.186276 0.5235988 0.7807837"/>
      <geometry>
        <mesh filename="package://alfie_urdf/meshes/roller.obj" scale="1. 1. 1."/>
      </geometry>
    </collision>
    <collision>
      <origin xyz="-0.0286436 0.010937 0.0282389" rpy="2.186276 0.5235988 2.177047 "/>
      <geometry>
        <mesh filename="package://alfie_urdf/meshes/roller.obj" scale="1. 1. 1."/>
      </geometry>
    </collision>
    <collision>
      <origin xyz="0.0049047 -0.0303628 0.0282005" rpy="-2.186276 0.5235988 2.360809 "/>
      <geometry>
        <mesh filename="package://alfie_urdf/meshes/roller.obj" scale="1. 1. 1."/>
      </geometry>
    </collision>
    <collision>
      <origin xyz="0.0306778 -0.0004275 0.0281856" rpy="3.1415927 0. -1.5707964"/>
      <geometry>
        <mesh filename="package://alfie_urdf/meshes/roller.obj" scale="1. 1. 1."/>
      </geometry>
    </collision>
  </link>

  <link name="mecanum_fr_link">
    <inertial>
      <origin xyz="0. -0. -0.0279484" rpy="0. 0. 0."/>
      <mass value="0.2098582"/>
      <inertia ixx="0.0000781" ixy="0." ixz="0." iyy="0.0000822" iyz="-0." izz="0.0000781"/>
    </inertial>
    <visual>
      <origin xyz="0.0290288 -0.0101091 -0.0282764" rpy="3.0898395 0.0013398 1.2734836"/>
      <geometry>
        <mesh filename="package://alfie_urdf/meshes/roller.obj" scale="1. 1. 1."/>
      </geometry>
      <material name="rubber_black"/>
    </visual>
    <visual>
      <origin xyz="-0.0231955 -0.0200459 -0.0282591" rpy="-2.133727 0.5903624 -1.8805304"/>
      <geometry>
        <mesh filename="package://alfie_urdf/meshes/roller.obj" scale="1. 1. 1."/>
      </geometry>
      <material name="rubber_black"/>
    </visual>
    <visual>
      <origin xyz="-0.0057898 0.0302133 -0.02825 " rpy="2.543315 0.189642 -2.368782"/>
      <geometry>
        <mesh filename="package://alfie_urdf/meshes/roller.obj" scale="1. 1. 1."/>
      </geometry>
      <material name="rubber_black"/>
    </visual>
    <visual>
      <origin xyz="0.0287354 0.0109153 -0.0282764" rpy="3.0898395 0.0013398 1.9716153"/>
      <geometry>
        <mesh filename="package://alfie_urdf/meshes/roller.obj" scale="1. 1. 1."/>
      </geometry>
      <material name="rubber_black"/>
    </visual>
    <visual>
      <origin xyz="0.0149965 0.0268394 -0.028273 " rpy="2.9902365 0.0114981 2.76935 "/>
      <geometry>
        <mesh filename="package://alfie_urdf/meshes/roller.obj" scale="1. 1. 1."/>
      </geometry>
      <material name="rubber_black"/>
    </visual>
    <visual>
      <origin xyz="-0.0307403 -0.0004917 -0.0282137" rpy="2.0234883 0.7461636 -0.4526919"/>
      <geometry>
        <mesh filename="package://alfie_urdf/meshes/roller.obj" scale="1. 1. 1."/>
      </geometry>
      <material name="rubber_black"/>
    </visual>
    <visual>
      <origin xyz="0.0157454 -0.026407 -0.028273 " rpy="2.9902365 0.0114981 0.6749548"/>
      <geometry>
        <mesh filename="package://alfie_urdf/meshes/roller.obj" scale="1. 1. 1."/>
      </geometry>
      <material name="rubber_black"/>
    </visual>
    <visual>
      <origin xyz="-0.0238669 0.0194043 -0.0282286" rpy="2.240851 0.4593191 -1.3681865"/>
      <geometry>
        <mesh filename="package://alfie_urdf/meshes/roller.obj" scale="1. 1. 1."/>
      </geometry>
      <material name="rubber_black"/>
    </visual>
    <visual>
      <origin xyz="-0.0048618 -0.0302659 -0.0282377" rpy="-1.8992568 0.9467018 -1.4168686"/>
      <geometry>
        <mesh filename="package://alfie_urdf/meshes/roller.obj" scale="1. 1. 1."/>
      </geometry>
      <material name="rubber_black"/>
    </visual>
    <visual>
      <origin xyz="-0.0001322 0.0000806 0.018527 " rpy="1.5707964 -1.5707964 0. "/>
      <geometry>
        <mesh filename="package://alfie_urdf/meshes/mecanum_fr_link_hub.obj" scale="1. 1. 1."/>
      </geometry>
      <material name="plastic_white"/>
    </visual>
    <collision>
      <origin xyz="0.0290288 -0.0101091 -0.0282764" rpy="3.0898395 0.0013398 1.2734836"/>
      <geometry>
        <mesh filename="package://alfie_urdf/meshes/roller.obj" scale="1. 1. 1."/>
      </geometry>
    </collision>
    <collision>
      <origin xyz="-0.0231955 -0.0200459 -0.0282591" rpy="-2.133727 0.5903624 -1.8805304"/>
      <geometry>
        <mesh filename="package://alfie_urdf/meshes/roller.obj" scale="1. 1. 1."/>
      </geometry>
    </collision>
    <collision>
      <origin xyz="-0.0057898 0.0302133 -0.02825 " rpy="2.543315 0.189642 -2.368782"/>
      <geometry>
        <mesh filename="package://alfie_urdf/meshes/roller.obj" scale="1. 1. 1."/>
      </geometry>
    </collision>
    <collision>
      <origin xyz="0.0287354 0.0109153 -0.0282764" rpy="3.0898395 0.0013398 1.9716153"/>
      <geometry>
        <mesh filename="package://alfie_urdf/meshes/roller.obj" scale="1. 1. 1."/>
      </geometry>
    </collision>
    <collision>
      <origin xyz="0.0149965 0.0268394 -0.028273 " rpy="2.9902365 0.0114981 2.76935 "/>
      <geometry>
        <mesh filename="package://alfie_urdf/meshes/roller.obj" scale="1. 1. 1."/>
      </geometry>
    </collision>
    <collision>
      <origin xyz="-0.0307403 -0.0004917 -0.0282137" rpy="2.0234883 0.7461636 -0.4526919"/>
      <geometry>
        <mesh filename="package://alfie_urdf/meshes/roller.obj" scale="1. 1. 1."/>
      </geometry>
    </collision>
    <collision>
      <origin xyz="0.0157454 -0.026407 -0.028273 " rpy="2.9902365 0.0114981 0.6749548"/>
      <geometry>
        <mesh filename="package://alfie_urdf/meshes/roller.obj" scale="1. 1. 1."/>
      </geometry>
    </collision>
    <collision>
      <origin xyz="-0.0238669 0.0194043 -0.0282286" rpy="2.240851 0.4593191 -1.3681865"/>
      <geometry>
        <mesh filename="package://alfie_urdf/meshes/roller.obj" scale="1. 1. 1."/>
      </geometry>
    </collision>
    <collision>
      <origin xyz="-0.0048618 -0.0302659 -0.0282377" rpy="-1.8992568 0.9467018 -1.4168686"/>
      <geometry>
        <mesh filename="package://alfie_urdf/meshes/roller.obj" scale="1. 1. 1."/>
      </geometry>
    </collision>
  </link>

  <link name="mecanum_rl_link">
    <inertial>
      <origin xyz="0.0237801 0.0194285 0.0281847" rpy="0. 0. 0."/>
      <mass value="0.0152798"/>
      <inertia ixx="0.0000007" ixy="-0.0000001" ixz="-0.0000005" iyy="0.0000015" iyz="-0." izz="0.0000012"/>
    </inertial>
    <visual>
      <origin xyz="-0.0289972 -0.0100267 0.0282098" rpy="-1.2217305 -1.5707964 0. "/>
      <geometry>
        <mesh filename="package://alfie_urdf/meshes/roller.obj" scale="1. 1. 1."/>
      </geometry>
      <material name="rubber_black"/>
    </visual>
    <visual>
      <origin xyz="0.0232493 -0.0201361 0.0282246" rpy="-0.9553166 -0.5235988 3.0589406"/>
      <geometry>
        <mesh filename="package://alfie_urdf/meshes/roller.obj" scale="1. 1. 1."/>
      </geometry>
      <material name="rubber_black"/>
    </visual>
    <visual>
      <origin xyz="0.0057591 0.0301143 0.0282631" rpy="0.9553166 -0.5235988 0.7807837"/>
      <geometry>
        <mesh filename="package://alfie_urdf/meshes/roller.obj" scale="1. 1. 1."/>
      </geometry>
      <material name="rubber_black"/>
    </visual>
    <visual>
      <origin xyz="-0.0286582 0.0109581 0.0282098" rpy="-1.9198622 -1.5707964 0. "/>
      <geometry>
        <mesh filename="package://alfie_urdf/meshes/roller.obj" scale="1. 1. 1."/>
      </geometry>
      <material name="rubber_black"/>
    </visual>
    <visual>
      <origin xyz="-0.0149097 0.0268156 0.0282098" rpy="-2.6179938 -1.5707964 0. "/>
      <geometry>
        <mesh filename="package://alfie_urdf/meshes/roller.obj" scale="1. 1. 1."/>
      </geometry>
      <material name="rubber_black"/>
    </visual>
    <visual>
      <origin xyz="0.0306724 -0.0004299 0.0282755" rpy="0.7382554 -0.2971161 -0.8325408"/>
      <geometry>
        <mesh filename="package://alfie_urdf/meshes/roller.obj" scale="1. 1. 1."/>
      </geometry>
      <material name="rubber_black"/>
    </visual>
    <visual>
      <origin xyz="-0.0157681 -0.0263199 0.0282098" rpy="-0.5235988 -1.5707964 0. "/>
      <geometry>
        <mesh filename="package://alfie_urdf/meshes/roller.obj" scale="1. 1. 1."/>
      </geometry>
      <material name="rubber_black"/>
    </visual>
    <visual>
      <origin xyz="0.0001322 0.0000806 -0.018527 " rpy="1.5707964 1.5707964 0. "/>
      <geometry>
        <mesh filename="package://alfie_urdf/meshes/mecanum_rl_link_hub.obj" scale="1. 1. 1."/>
      </geometry>
      <material name="plastic_white"/>
    </visual>
    <visual>
      <origin xyz="0.0048668 -0.0303695 0.0282246" rpy="-0.9553166 -0.5235988 2.360809 "/>
      <geometry>
        <mesh filename="package://alfie_urdf/meshes/roller.obj" scale="1. 1. 1."/>
      </geometry>
      <material name="rubber_black"/>
    </visual>
    <visual>
      <origin xyz="0.0237688 0.019367 0.0282631" rpy="0.9553166 -0.5235988 0.082652 "/>
      <geometry>
        <mesh filename="package://alfie_urdf/meshes/roller.obj" scale="1. 1. 1."/>
      </geometry>
      <material name="rubber_black"/>
    </visual>
    <collision>
      <origin xyz="-0.0289972 -0.0100267 0.0282098" rpy="-1.2217305 -1.5707964 0. "/>
      <geometry>
        <mesh filename="package://alfie_urdf/meshes/roller.obj" scale="1. 1. 1."/>
      </geometry>
    </collision>
    <collision>
      <origin xyz="0.0232493 -0.0201361 0.0282246" rpy="-0.9553166 -0.5235988 3.0589406"/>
      <geometry>
        <mesh filename="package://alfie_urdf/meshes/roller.obj" scale="1. 1. 1."/>
      </geometry>
    </collision>
    <collision>
      <origin xyz="0.0057591 0.0301143 0.0282631" rpy="0.9553166 -0.5235988 0.7807837"/>
      <geometry>
        <mesh filename="package://alfie_urdf/meshes/roller.obj" scale="1. 1. 1."/>
      </geometry>
    </collision>
    <collision>
      <origin xyz="-0.0286582 0.0109581 0.0282098" rpy="-1.9198622 -1.5707964 0. "/>
      <geometry>
        <mesh filename="package://alfie_urdf/meshes/roller.obj" scale="1. 1. 1."/>
      </geometry>
    </collision>
    <collision>
      <origin xyz="-0.0149097 0.0268156 0.0282098" rpy="-2.6179938 -1.5707964 0. "/>
      <geometry>
        <mesh filename="package://alfie_urdf/meshes/roller.obj" scale="1. 1. 1."/>
      </geometry>
    </collision>
    <collision>
      <origin xyz="0.0306724 -0.0004299 0.0282755" rpy="0.7382554 -0.2971161 -0.8325408"/>
      <geometry>
        <mesh filename="package://alfie_urdf/meshes/roller.obj" scale="1. 1. 1."/>
      </geometry>
    </collision>
    <collision>
      <origin xyz="-0.0157681 -0.0263199 0.0282098" rpy="-0.5235988 -1.5707964 0. "/>
      <geometry>
        <mesh filename="package://alfie_urdf/meshes/roller.obj" scale="1. 1. 1."/>
      </geometry>
    </collision>
    <collision>
      <origin xyz="0.0048668 -0.0303695 0.0282246" rpy="-0.9553166 -0.5235988 2.360809 "/>
      <geometry>
        <mesh filename="package://alfie_urdf/meshes/roller.obj" scale="1. 1. 1."/>
      </geometry>
    </collision>
    <collision>
      <origin xyz="0.0237688 0.019367 0.0282631" rpy="0.9553166 -0.5235988 0.082652 "/>
      <geometry>
        <mesh filename="package://alfie_urdf/meshes/roller.obj" scale="1. 1. 1."/>
      </geometry>
    </collision>
  </link>

  <link name="mecanum_rr_link">
    <inertial>
      <origin xyz="0.030705 0.0004024 -0.0282788" rpy="0. 0. 0."/>
      <mass value="0.0152798"/>
      <inertia ixx="0.0000015" ixy="-0." ixz="-0." iyy="0.0000004" iyz="-0." izz="0.0000015"/>
    </inertial>
    <visual>
      <origin xyz="0.0238566 -0.0193678 -0.0282563" rpy="-1.5170586 -1.4634758 -0.644394 "/>
      <geometry>
        <mesh filename="package://alfie_urdf/meshes/roller.obj" scale="1. 1. 1."/>
      </geometry>
      <material name="rubber_black"/>
    </visual>
    <visual>
      <origin xyz="-0.014992 -0.0268577 -0.0282036" rpy="0.9966134 -0.5756602 0.4730145"/>
      <geometry>
        <mesh filename="package://alfie_urdf/meshes/roller.obj" scale="1. 1. 1."/>
      </geometry>
      <material name="rubber_black"/>
    </visual>
    <visual>
      <origin xyz="0.0001322 0.0000806 0.018527 " rpy="1.5707964 1.5707964 0. "/>
      <geometry>
        <mesh filename="package://alfie_urdf/meshes/mecanum_rr_link_hub.obj" scale="1. 1. 1."/>
      </geometry>
      <material name="plastic_black"/>
    </visual>
    <visual>
      <origin xyz="-0.0289869 0.0100279 -0.0282491" rpy="-1.1055627 -0.7273656 -3.025425 "/>
      <geometry>
        <mesh filename="package://alfie_urdf/meshes/roller.obj" scale="1. 1. 1."/>
      </geometry>
      <material name="rubber_black"/>
    </visual>
    <visual>
      <origin xyz="-0.0157486 0.02631 -0.0282419" rpy="-0.9966134 -0.5756602 2.6685781"/>
      <geometry>
        <mesh filename="package://alfie_urdf/meshes/roller.obj" scale="1. 1. 1."/>
      </geometry>
      <material name="rubber_black"/>
    </visual>
    <visual>
      <origin xyz="0.0232311 0.0201359 -0.0282505" rpy="1.5170586 -1.4634758 -2.4971986"/>
      <geometry>
        <mesh filename="package://alfie_urdf/meshes/roller.obj" scale="1. 1. 1."/>
      </geometry>
      <material name="rubber_black"/>
    </visual>
    <visual>
      <origin xyz="0.0057783 -0.0302104 -0.0282027" rpy="0.9853742 -0.5611966 1.159907 "/>
      <geometry>
        <mesh filename="package://alfie_urdf/meshes/roller.obj" scale="1. 1. 1."/>
      </geometry>
      <material name="rubber_black"/>
    </visual>
    <visual>
      <origin xyz="-0.028749 -0.0109475 -0.0282128" rpy="1.1055627 -0.7273656 -0.1161676"/>
      <geometry>
        <mesh filename="package://alfie_urdf/meshes/roller.obj" scale="1. 1. 1."/>
      </geometry>
      <material name="rubber_black"/>
    </visual>
    <visual>
      <origin xyz="0.0048482 0.0302768 -0.0282411" rpy="-0.9853742 -0.5611966 1.9816856"/>
      <geometry>
        <mesh filename="package://alfie_urdf/meshes/roller.obj" scale="1. 1. 1."/>
      </geometry>
      <material name="rubber_black"/>
    </visual>
    <visual>
      <origin xyz="0.0306778 0.0004275 -0.0281856" rpy="0. 0. 1.5707964"/>
      <geometry>
        <mesh filename="package://alfie_urdf/meshes/roller.obj" scale="1. 1. 1."/>
      </geometry>
      <material name="rubber_black"/>
    </visual>
    <collision>
      <origin xyz="0.0238566 -0.0193678 -0.0282563" rpy="-1.5170586 -1.4634758 -0.644394 "/>
      <geometry>
        <mesh filename="package://alfie_urdf/meshes/roller.obj" scale="1. 1. 1."/>
      </geometry>
    </collision>
    <collision>
      <origin xyz="-0.014992 -0.0268577 -0.0282036" rpy="0.9966134 -0.5756602 0.4730145"/>
      <geometry>
        <mesh filename="package://alfie_urdf/meshes/roller.obj" scale="1. 1. 1."/>
      </geometry>
    </collision>
    <collision>
      <origin xyz="-0.0289869 0.0100279 -0.0282491" rpy="-1.1055627 -0.7273656 -3.025425 "/>
      <geometry>
        <mesh filename="package://alfie_urdf/meshes/roller.obj" scale="1. 1. 1."/>
      </geometry>
    </collision>
    <collision>
      <origin xyz="-0.0157486 0.02631 -0.0282419" rpy="-0.9966134 -0.5756602 2.6685781"/>
      <geometry>
        <mesh filename="package://alfie_urdf/meshes/roller.obj" scale="1. 1. 1."/>
      </geometry>
    </collision>
    <collision>
      <origin xyz="0.0232311 0.0201359 -0.0282505" rpy="1.5170586 -1.4634758 -2.4971986"/>
      <geometry>
        <mesh filename="package://alfie_urdf/meshes/roller.obj" scale="1. 1. 1."/>
      </geometry>
    </collision>
    <collision>
      <origin xyz="0.0057783 -0.0302104 -0.0282027" rpy="0.9853742 -0.5611966 1.159907 "/>
      <geometry>
        <mesh filename="package://alfie_urdf/meshes/roller.obj" scale="1. 1. 1."/>
      </geometry>
    </collision>
    <collision>
      <origin xyz="-0.028749 -0.0109475 -0.0282128" rpy="1.1055627 -0.7273656 -0.1161676"/>
      <geometry>
        <mesh filename="package://alfie_urdf/meshes/roller.obj" scale="1. 1. 1."/>
      </geometry>
    </collision>
    <collision>
      <origin xyz="0.0048482 0.0302768 -0.0282411" rpy="-0.9853742 -0.5611966 1.9816856"/>
      <geometry>
        <mesh filename="package://alfie_urdf/meshes/roller.obj" scale="1. 1. 1."/>
      </geometry>
    </collision>
    <collision>
      <origin xyz="0.0306778 0.0004275 -0.0281856" rpy="0. 0. 1.5707964"/>
      <geometry>
        <mesh filename="package://alfie_urdf/meshes/roller.obj" scale="1. 1. 1."/>
      </geometry>
    </collision>
  </link>

  <link name="neck2_link">
    <inertial>
      <origin xyz="-0. 0. 0.0264545" rpy="0. 0. 0."/>
      <mass value="0.0339002"/>
      <inertia ixx="0.0000129" ixy="0." ixz="0." iyy="0.0000141" iyz="0." izz="0.0000245"/>
    </inertial>
    <visual>
      <origin xyz="0. 0.015 -0.044" rpy="0. 0. 0."/>
      <geometry>
        <mesh filename="package://alfie_urdf/meshes/neck2_frame.obj" scale="1. 1. 1."/>
      </geometry>
      <material name="plastic_black"/>
    </visual>
  </link>

  <link name="neck3_link">
    <inertial>
      <origin xyz="0.0133899 0. 0.0195466" rpy="0. 0. 0."/>
      <mass value="0.0951702"/>
      <inertia ixx="0.0000129" ixy="0." ixz="-0." iyy="0.0000204" iyz="-0." izz="0.0000236"/>
    </inertial>
    <visual>
      <origin xyz="0. 0. 0.0215" rpy="3.1415927 0. 1.5707964"/>
      <geometry>
        <mesh filename="package://alfie_urdf/meshes/active_horn.obj" scale="1. 1. 1."/>
      </geometry>
      <material name="plastic_white"/>
    </visual>
    <visual>
      <origin xyz="0. 0. 0.02" rpy="3.1415927 0. 1.5707964"/>
      <geometry>
        <mesh filename="package://alfie_urdf/meshes/passive_horn.obj" scale="1. 1. 1."/>
      </geometry>
      <material name="plastic_white"/>
    </visual>
    <visual>
      <origin xyz="0.0346271 0.0001068 0.0194332" rpy="3.1415927 0. 1.5707964"/>
      <geometry>
        <mesh filename="package://alfie_urdf/meshes/neck3_frame.obj" scale="1. 1. 1."/>
      </geometry>
      <material name="aluminum_black"/>
    </visual>
    <visual>
      <origin xyz="0. 0. 0.0215" rpy="3.1415927 0. 3.1415927"/>
      <geometry>
        <mesh filename="package://alfie_urdf/meshes/st3215.obj" scale="1. 1. 1."/>
      </geometry>
      <material name="plastic_black"/>
    </visual>
  </link>

  <link name="right_arm_lower_link">
    <inertial>
      <origin xyz="-0.0133899 -0. 0.0192034" rpy="0. 0. 0."/>
      <mass value="0.0951702"/>
      <inertia ixx="0.0000129" ixy="-0." ixz="0." iyy="0.0000204" iyz="-0." izz="0.0000236"/>
    </inertial>
    <visual>
      <origin xyz="0.0672499 0.5326688 -0.0786977" rpy="1.5707961 1.5707963 0. "/>
      <geometry>
        <mesh filename="package://alfie_urdf/meshes/tube.obj" scale="1. 1. 1."/>
      </geometry>
      <material name="plastic_black"/>
    </visual>
    <visual>
      <origin xyz="-0.2158563 -0.0012424 0.017225 " rpy="0.0000001 -0.0000001 1.5707965"/>
      <geometry>
        <mesh filename="package://alfie_urdf/meshes/passive_horn.obj" scale="1. 1. 1."/>
      </geometry>
      <material name="plastic_white"/>
    </visual>
    <visual>
      <origin xyz="0.06725 -0.539283 0.1163363" rpy="-1.5707963 -1.5707963 0. "/>
      <geometry>
        <mesh filename="package://alfie_urdf/meshes/wrist_frame.obj" scale="1. 1. 1."/>
      </geometry>
      <material name="aluminum_black"/>
    </visual>
    <visual>
      <origin xyz="0.06725 -0.5392672 0.1163611" rpy="-1.5707963 -1.5707963 0. "/>
      <geometry>
        <mesh filename="package://alfie_urdf/meshes/bracket_lower.obj" scale="1. 1. 1."/>
      </geometry>
      <material name="plastic_grey"/>
    </visual>
    <visual>
      <origin xyz="0.06725 -0.5392672 0.1163611" rpy="-1.5707963 -1.5707963 0. "/>
      <geometry>
        <mesh filename="package://alfie_urdf/meshes/elbow_frame.obj" scale="1. 1. 1."/>
      </geometry>
      <material name="aluminum_black"/>
    </visual>
    <visual>
      <origin xyz="0. -0. 0.01725" rpy="-0.0000001 0.0000001 -1.5707963"/>
      <geometry>
        <mesh filename="package://alfie_urdf/meshes/passive_horn.obj" scale="1. 1. 1."/>
      </geometry>
      <material name="plastic_white"/>
    </visual>
    <visual>
      <origin xyz="0.06725 -0.5392672 0.1163611" rpy="-1.5707963 -1.5707963 0. "/>
      <geometry>
        <mesh filename="package://alfie_urdf/meshes/bracket_upper.obj" scale="1. 1. 1."/>
      </geometry>
      <material name="plastic_grey"/>
    </visual>
    <visual>
      <origin xyz="0.06725 -0.539283 0.1163363" rpy="-1.5707963 -1.5707963 0. "/>
      <geometry>
        <mesh filename="package://alfie_urdf/meshes/bracket_lower.obj" scale="1. 1. 1."/>
      </geometry>
      <material name="plastic_grey"/>
    </visual>
    <visual>
      <origin xyz="-0.2158563 -0.005356 0.0204384" rpy="3.1415925 -0.0000001 -3.1415925"/>
      <geometry>
        <mesh filename="package://alfie_urdf/meshes/st3215.obj" scale="1. 1. 1."/>
      </geometry>
      <material name="plastic_black"/>
    </visual>
    <visual>
      <origin xyz="-0.2158563 -0.0012424 0.017225 " rpy="0.0000001 -0.0000001 1.5707965"/>
      <geometry>
        <mesh filename="package://alfie_urdf/meshes/active_horn.obj" scale="1. 1. 1."/>
      </geometry>
      <material name="plastic_white"/>
    </visual>
    <visual>
      <origin xyz="0. -0. 0.01725" rpy="-0.0000001 0.0000001 -1.5707963"/>
      <geometry>
        <mesh filename="package://alfie_urdf/meshes/active_horn.obj" scale="1. 1. 1."/>
      </geometry>
      <material name="plastic_white"/>
    </visual>
    <visual>
      <origin xyz="0.06725 -0.539283 0.1163363" rpy="-1.5707963 -1.5707963 0. "/>
      <geometry>
        <mesh filename="package://alfie_urdf/meshes/bracket_upper.obj" scale="1. 1. 1."/>
      </geometry>
      <material name="plastic_grey"/>
    </visual>
    <visual>
      <origin xyz="0. -0. 0.01725" rpy="0.0000001 0.0000001 0.0000001"/>
      <geometry>
        <mesh filename="package://alfie_urdf/meshes/st3215.obj" scale="1. 1. 1."/>
      </geometry>
      <material name="plastic_black"/>
    </visual>
  </link>

  <link name="right_arm_upper_link">
    <inertial>
      <origin xyz="0.1212154 -0.0000903 0.03801 " rpy="0. 0. 0."/>
      <mass value="0.1877193"/>
      <inertia ixx="0.0009182" ixy="-0." ixz="-0." iyy="0.0008838" iyz="-0." izz="0.0000578"/>
    </inertial>
    <visual>
      <origin xyz="0.7760408 0.0370184 0.1359393" rpy="-0. -1.5707961 0. "/>
      <geometry>
        <mesh filename="package://alfie_urdf/meshes/upper_frame.obj" scale="1. 1. 1."/>
      </geometry>
      <material name="aluminum_black"/>
    </visual>
  </link>

  <link name="right_gripper_active_link">
    <inertial>
      <origin xyz="-0.0001356 -0.0333035 0.005 " rpy="0. 0. 0."/>
      <mass value="0.0211625"/>
      <inertia ixx="0.0000013" ixy="-0." ixz="-0." iyy="0.0000198" iyz="0." izz="0.0000203"/>
    </inertial>
    <visual>
      <origin xyz="-0.03125 0. 0.015 " rpy="-3.1415927 0. -3.1415927"/>
      <geometry>
        <mesh filename="package://alfie_urdf/meshes/gripper_liner.obj" scale="1. 1. 1."/>
      </geometry>
      <material name="rubber_orange"/>
    </visual>
    <visual>
      <origin xyz="-0.03125 0. 0.015 " rpy="-3.1415927 0. -3.1415927"/>
      <geometry>
        <mesh filename="package://alfie_urdf/meshes/gripper.obj" scale="1. 1. 1."/>
      </geometry>
      <material name="plastic_black"/>
    </visual>
    <collision>
      <origin xyz="-0.0313332 -0.0001633 -0.0049882" rpy="0. 0. 0."/>
      <geometry>
        <mesh filename="package://alfie_urdf/meshes/gripper_active_collision.obj" scale="1. 1. 1."/>
      </geometry>
      <material name="plastic_black"/>
    </collision>
  </link>

  <link name="right_gripper_passive_link">
    <inertial>
      <origin xyz="0.006577 -0.0528765 0.0049983" rpy="0. 0. 0."/>
      <mass value="0.0070743"/>
      <inertia ixx="0.0000002" ixy="0." ixz="0." iyy="0.0000039" iyz="0." izz="0.000004"/>
    </inertial>
    <visual>
      <origin xyz="0.03125 -0. -0.005 " rpy="0. 0. 0."/>
      <geometry>
        <mesh filename="package://alfie_urdf/meshes/gripper.obj" scale="1. 1. 1."/>
      </geometry>
      <material name="plastic_black"/>
    </visual>
    <visual>
      <origin xyz="0.03125 -0. -0.005 " rpy="0. 0. 0."/>
      <geometry>
        <mesh filename="package://alfie_urdf/meshes/gripper_liner.obj" scale="1. 1. 1."/>
      </geometry>
      <material name="rubber_orange"/>
    </visual>
    <collision>
      <origin xyz="0.031 -0.0003 -0.0044" rpy="0. 0. 0."/>
      <geometry>
        <mesh filename="package://alfie_urdf/meshes/gripper_passive_collision.obj" scale="1. 1. 1."/>
      </geometry>
      <material name="plastic_black"/>
    </collision>
  </link>

  <link name="right_hand_link">
    <inertial>
      <origin xyz="-0.0009873 -0.0011172 0.0124377" rpy="0. 0. 0."/>
      <mass value="0.0225604"/>
      <inertia ixx="0.0000078" ixy="0." ixz="-0." iyy="0.0000033" iyz="0." izz="0.0000065"/>
    </inertial>
    <visual>
      <origin xyz="0.02245 0.015625 0.021 " rpy="1.5707964 -0.0148905 1.5707964"/>
      <geometry>
        <mesh filename="package://alfie_urdf/meshes/st3215.obj" scale="1. 1. 1."/>
      </geometry>
      <material name="plastic_black"/>
    </visual>
    <visual>
      <origin xyz="0.01 0.015625 0.021 " rpy="-1.5707964 0. 1.5707964"/>
      <geometry>
        <mesh filename="package://alfie_urdf/meshes/hand_frame.obj" scale="1. 1. 1."/>
      </geometry>
      <material name="aluminum_black"/>
    </visual>
  </link>

  <link name="right_shoulder_link">
    <inertial>
      <origin xyz="-0.035563 -0.0000007 -0.0509092" rpy="0. 0. 0."/>
      <mass value="0.0014148"/>
      <inertia ixx="0.0000001" ixy="0." ixz="-0." iyy="0." iyz="-0." izz="0."/>
    </inertial>
    <visual>
      <origin xyz="0. -0. 0." rpy="0. 0. 3.1415927"/>
      <geometry>
        <mesh filename="package://alfie_urdf/meshes/shoulder_frame.obj" scale="1. 1. 1."/>
      </geometry>
      <material name="aluminum_black"/>
    </visual>
    <visual>
      <origin xyz="0.0206675 0.0000265 -0.0508856" rpy="3.1415927 1.5707964 0. "/>
      <geometry>
        <mesh filename="package://alfie_urdf/meshes/active_horn.obj" scale="1. 1. 1."/>
      </geometry>
      <material name="plastic_white"/>
    </visual>
    <visual>
      <origin xyz="-0.0206912 -0.0000007 -0.0509092" rpy="0. 1.5707964 0. "/>
      <geometry>
        <mesh filename="package://alfie_urdf/meshes/passive_horn.obj" scale="1. 1. 1."/>
      </geometry>
      <material name="plastic_white"/>
    </visual>
    <visual>
      <origin xyz="0.0206675 0.0000265 -0.0508856" rpy="3.1415927 1.5707964 0. "/>
      <geometry>
        <mesh filename="package://alfie_urdf/meshes/passive_horn.obj" scale="1. 1. 1."/>
      </geometry>
      <material name="plastic_white"/>
    </visual>
    <visual>
      <origin xyz="0. -0. 0." rpy="0. 0. 3.1415927"/>
      <geometry>
        <mesh filename="package://alfie_urdf/meshes/shoulder_bearing.obj" scale="1. 1. 1."/>
      </geometry>
      <material name="plastic_black"/>
    </visual>
    <visual>
      <origin xyz="-0.0206912 -0.0000007 -0.0509092" rpy="0. 1.5707964 0. "/>
      <geometry>
        <mesh filename="package://alfie_urdf/meshes/st3215.obj" scale="1. 1. 1."/>
      </geometry>
      <material name="plastic_black"/>
    </visual>
    <visual>
      <origin xyz="0.0206675 0.0000265 -0.0508856" rpy="3.1415927 1.5707964 0. "/>
      <geometry>
        <mesh filename="package://alfie_urdf/meshes/st3215.obj" scale="1. 1. 1."/>
      </geometry>
      <material name="plastic_black"/>
    </visual>
    <visual>
      <origin xyz="-0.0206912 -0.0000007 -0.0509092" rpy="0. 1.5707964 0. "/>
      <geometry>
        <mesh filename="package://alfie_urdf/meshes/active_horn.obj" scale="1. 1. 1."/>
      </geometry>
      <material name="plastic_white"/>
    </visual>
  </link>

  <link name="right_wrist_link">
    <inertial>
      <origin xyz="-0. -0.0528718 0.0185 " rpy="0. 0. 0."/>
      <mass value="0.0014148"/>
      <inertia ixx="0." ixy="0." ixz="-0." iyy="0.0000001" iyz="0." izz="0."/>
    </inertial>
    <visual>
      <origin xyz="-0.0000108 -0.020328 0.0186398" rpy="1.5707961 0. -1.5707964"/>
      <geometry>
        <mesh filename="package://alfie_urdf/meshes/wrist.obj" scale="1. 1. 1."/>
      </geometry>
      <material name="plastic_black"/>
    </visual>
    <visual>
      <origin xyz="-0. -0.038 0.0185" rpy="-1.5707749 -1.5707961 -0.0000214"/>
      <geometry>
        <mesh filename="package://alfie_urdf/meshes/st3215.obj" scale="1. 1. 1."/>
      </geometry>
      <material name="plastic_black"/>
    </visual>
    <visual>
      <origin xyz="-0. -0.038 0.0185" rpy="-1.5707964 0.0000002 -0. "/>
      <geometry>
        <mesh filename="package://alfie_urdf/meshes/active_horn.obj" scale="1. 1. 1."/>
      </geometry>
      <material name="plastic_white"/>
    </visual>
  </link>

</robot>
